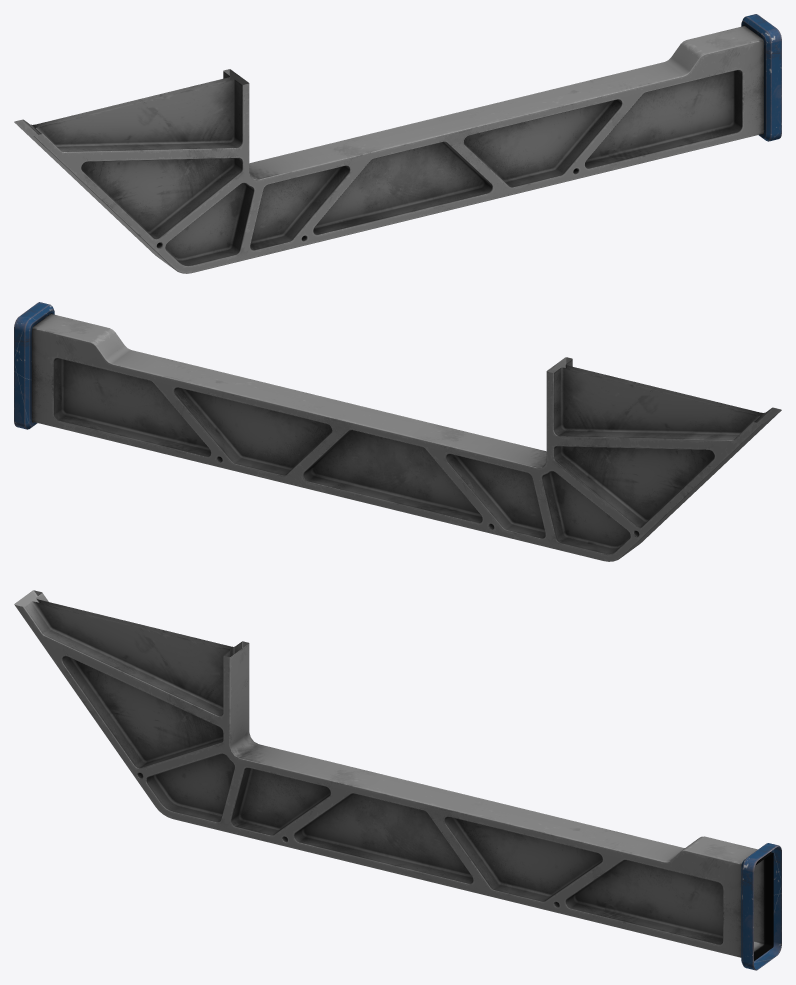
File: SM_RoofArm01.fbx
3 views of the same model, one above another, from view 1: azimuth 30°, elevation 25°; view 2: azimuth 150°, elevation 25°; view 3: azimuth 330°, elevation 25° (orthographic).
Visible parts, largest first — view 1: SM_RoofArm01_LOD0; view 2: SM_RoofArm01_LOD0; view 3: SM_RoofArm01_LOD0.
Part boxes in pixels (left/top/right/bottom): SM_RoofArm01_LOD0: left=14, top=14, right=781, bottom=273; SM_RoofArm01_LOD0: left=14, top=302, right=781, bottom=561; SM_RoofArm01_LOD0: left=14, top=590, right=781, bottom=970.
Bounding box in the file's own units: 409 × 27.28 × 96.76.
1 material, 1 textured.
